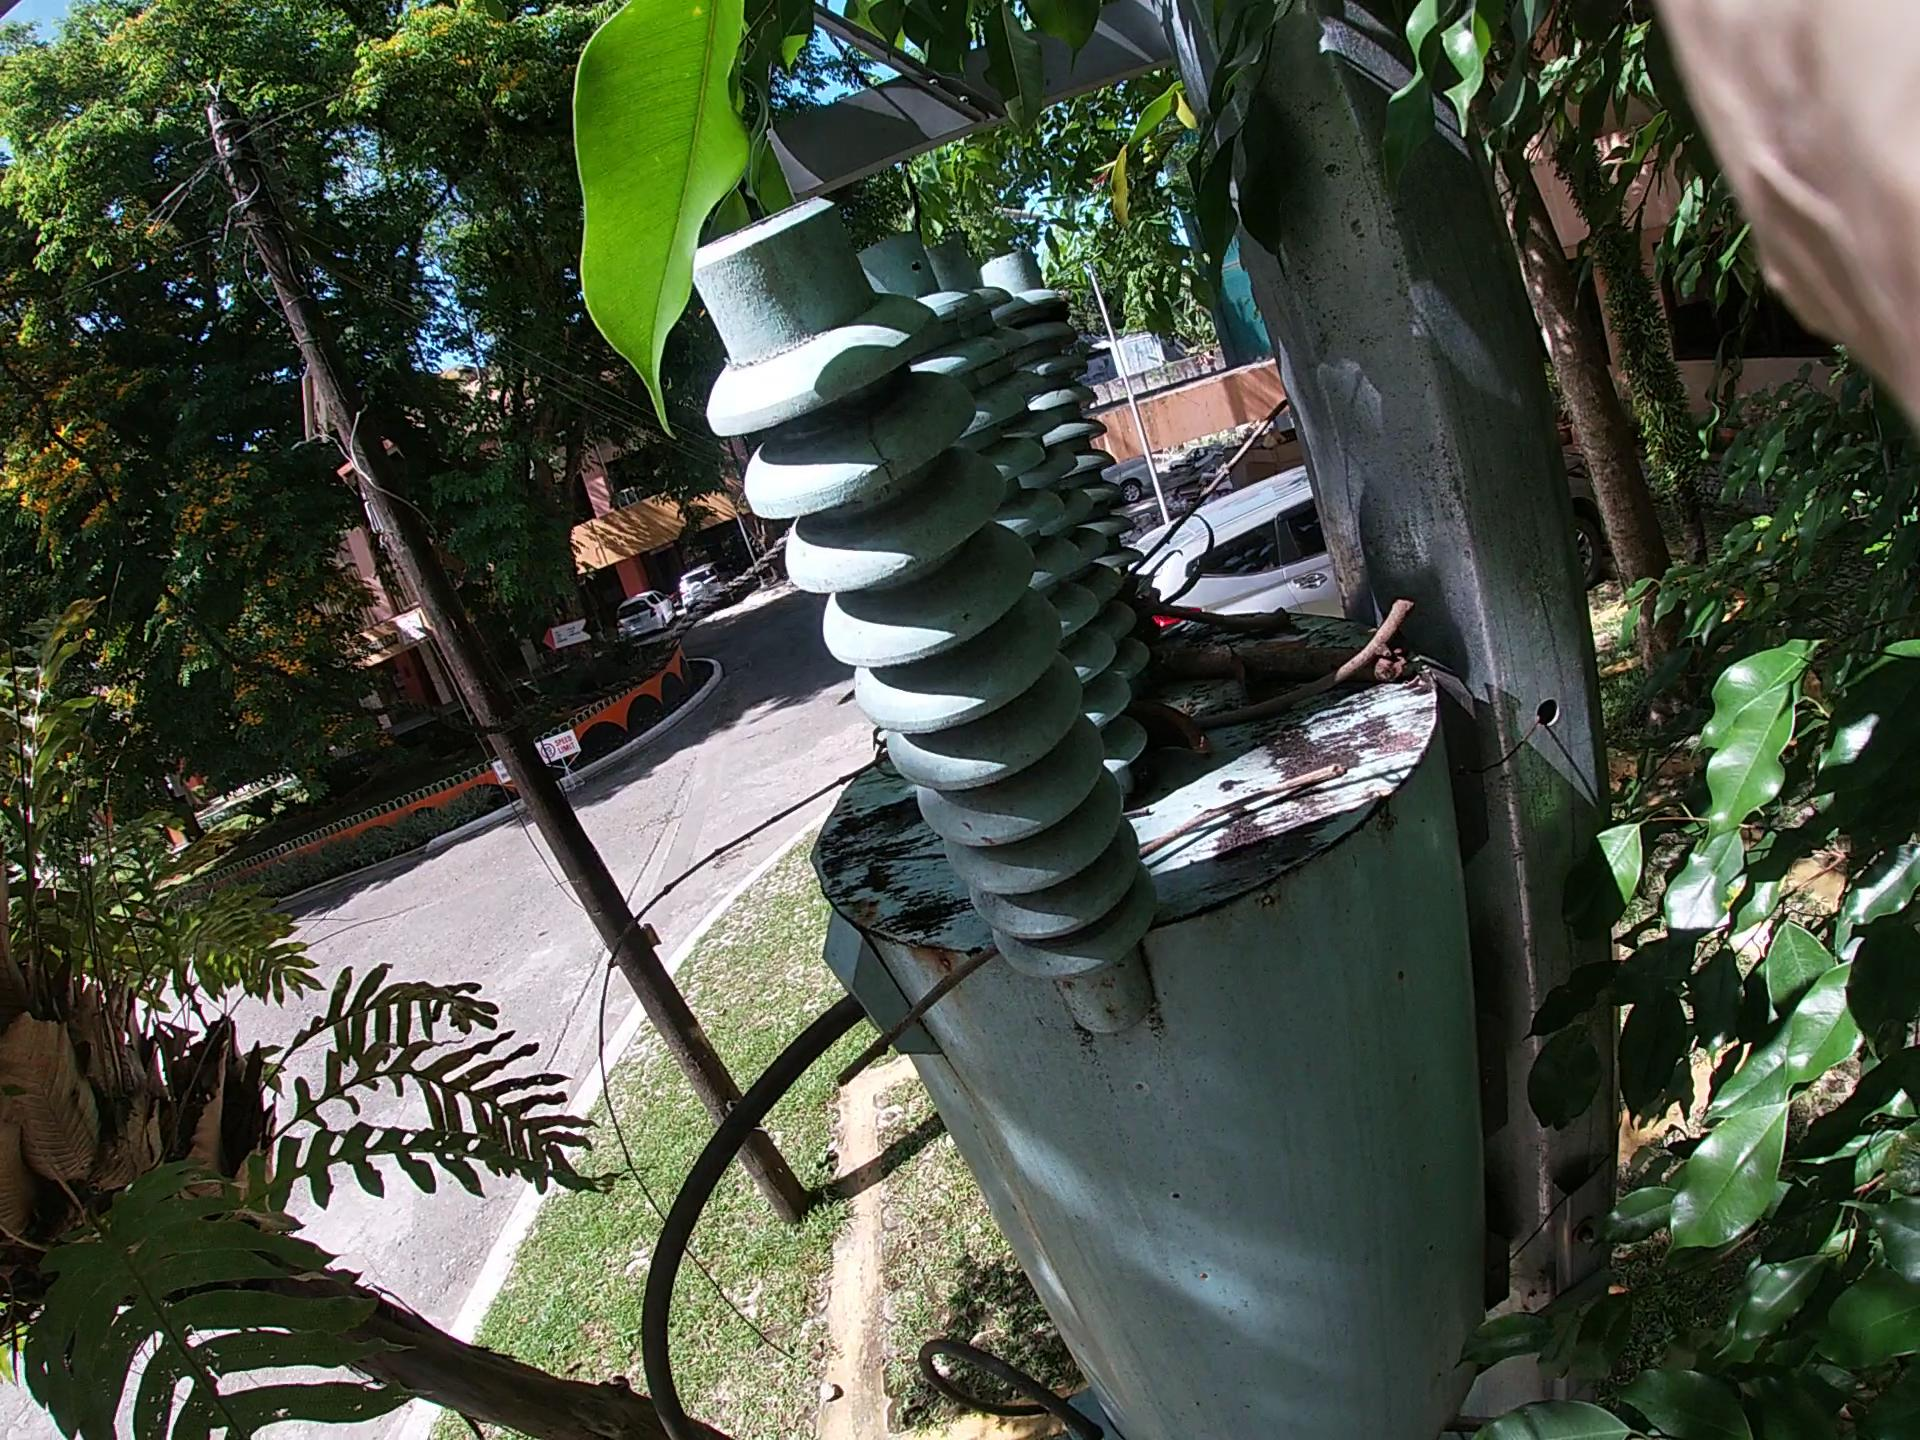mahogany fruit: (1114, 649, 1217, 731), (1095, 691, 1119, 740)
tree branch: (593, 421, 1432, 1094), (910, 656, 1559, 1062), (1143, 570, 1404, 762), (1214, 594, 1448, 687), (1143, 585, 1365, 635)
